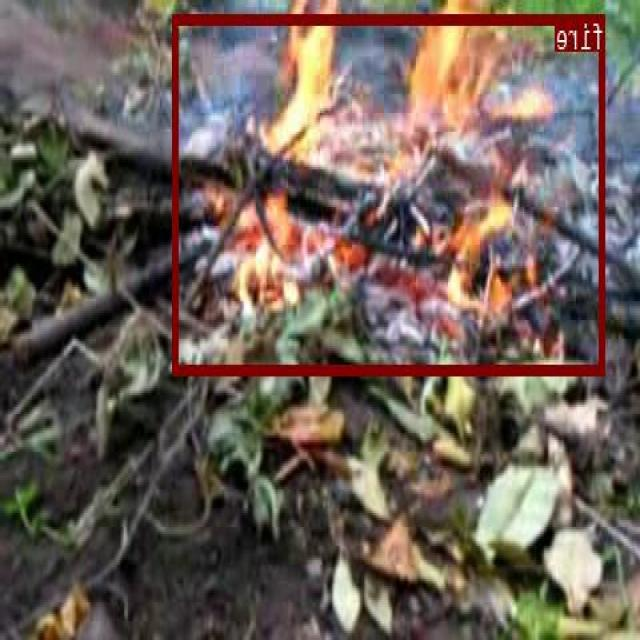fire: (174, 12, 606, 373)
